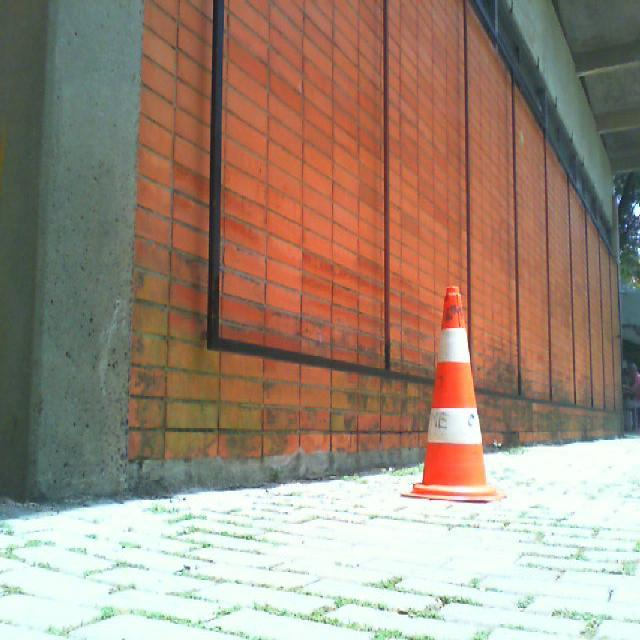Cone: (401, 286, 506, 504)
